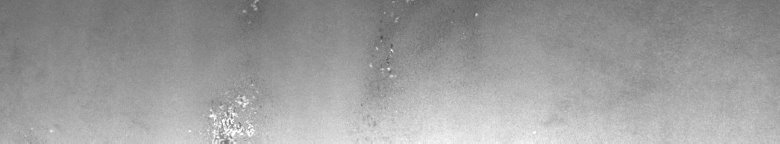hc: (364, 12, 401, 132)
